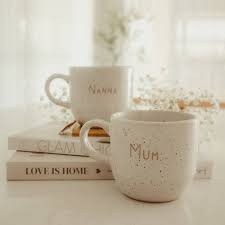mug: (63, 102, 199, 199)
